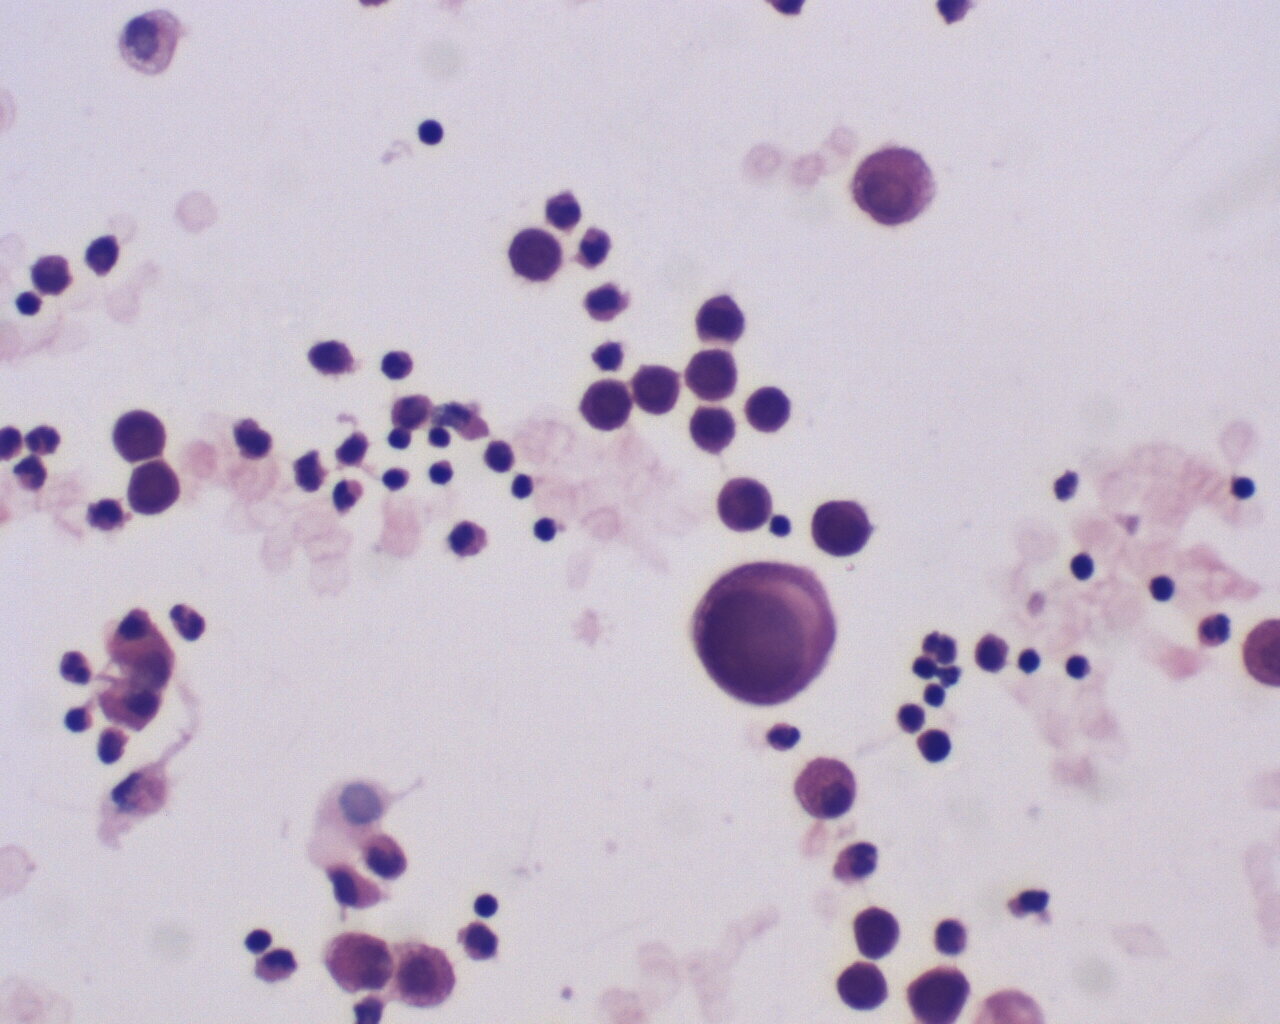ab: (686, 555, 836, 713), (807, 494, 875, 564), (711, 475, 775, 539), (120, 464, 185, 519), (505, 227, 564, 284), (111, 408, 169, 463), (684, 347, 741, 402), (576, 377, 633, 430)
lymph: (505, 469, 545, 508), (413, 117, 453, 153), (1227, 472, 1267, 508), (1067, 550, 1104, 587), (9, 286, 45, 323), (471, 887, 504, 923), (530, 511, 565, 543), (1058, 651, 1093, 681)
meso: (845, 143, 939, 231), (786, 753, 862, 827), (393, 941, 460, 1014)
neutro: (1196, 607, 1234, 655), (51, 646, 93, 686), (331, 473, 365, 519), (26, 417, 61, 458)
